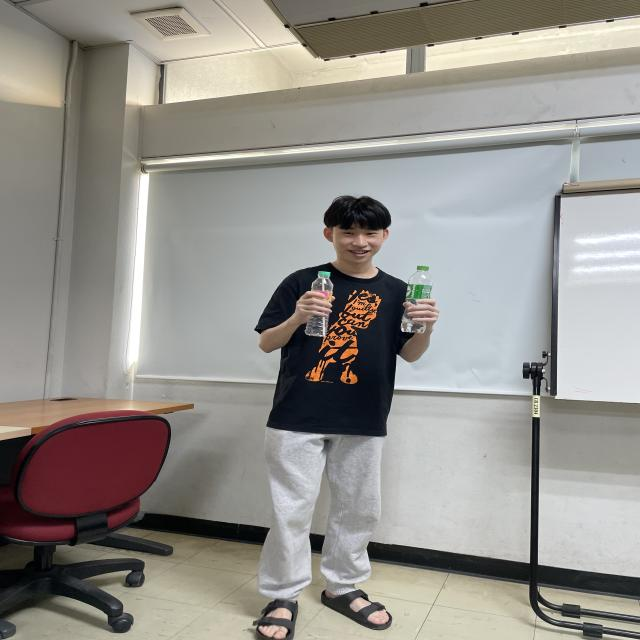bottle: (398, 265, 436, 333), (304, 271, 335, 337)
